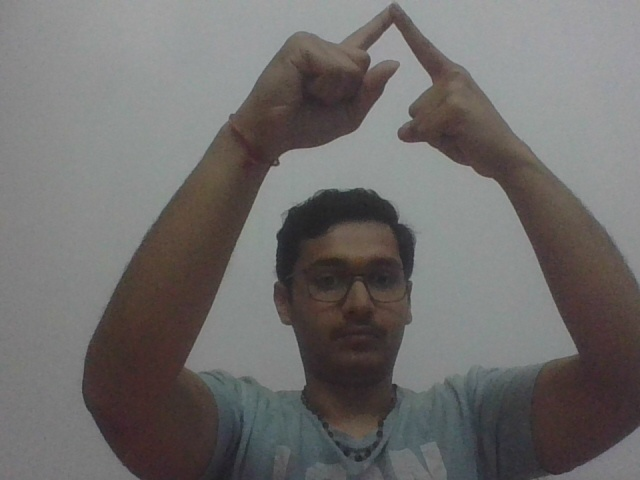E: (293, 1, 494, 168)
